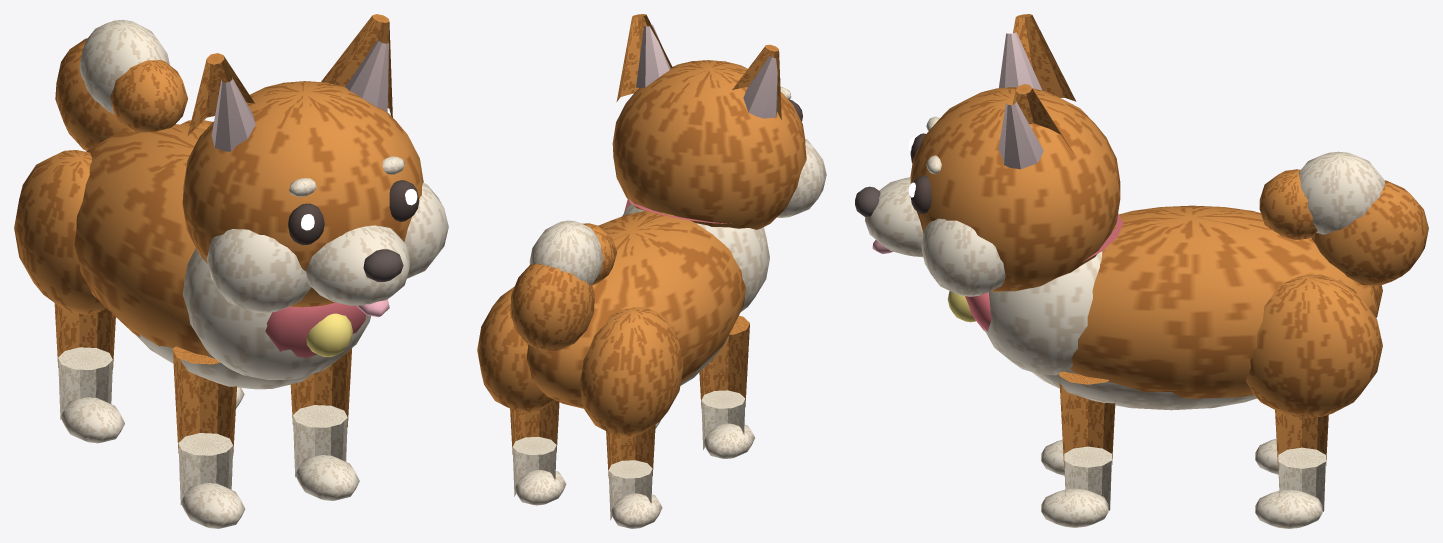
Rendered from anime_shiba.glb.
The picture shows the model from 3 angles, left to right: view 1: azimuth 30°, elevation 25°; view 2: azimuth 150°, elevation 25°; view 3: azimuth 270°, elevation 25°; orthographic projection. The views are drawn at different scales.
Visible parts, largest first — view 1: anime_shiba; view 2: anime_shiba; view 3: anime_shiba.
Part boxes in pixels (bbox=[...]): anime_shiba: bbox=[14, 14, 448, 528]; anime_shiba: bbox=[477, 14, 826, 528]; anime_shiba: bbox=[855, 14, 1428, 528].
Bounding box in the file's own units: 0.46 × 0.9478 × 1.1.
Materials: 9 (2 with a texture image).
